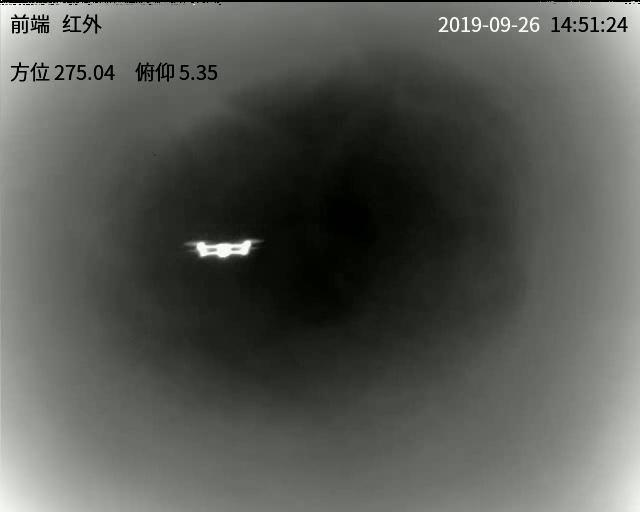DRONE: (187, 240, 259, 258)
